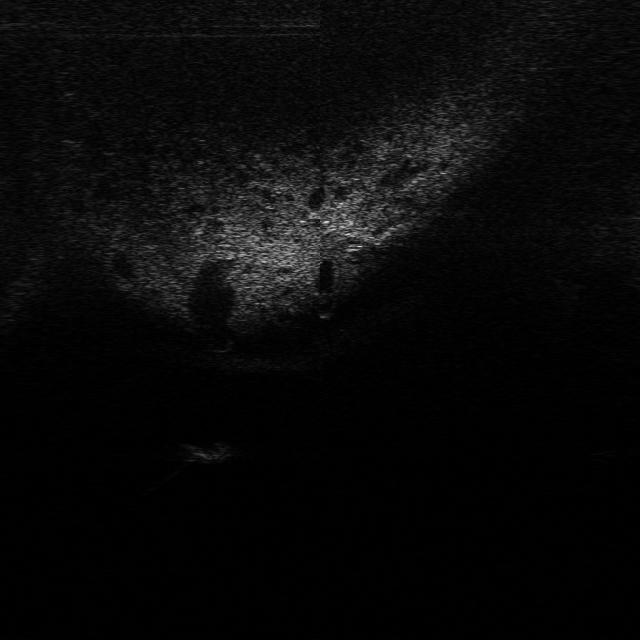ball: (310, 292, 342, 321)
cube: (178, 442, 234, 463)
